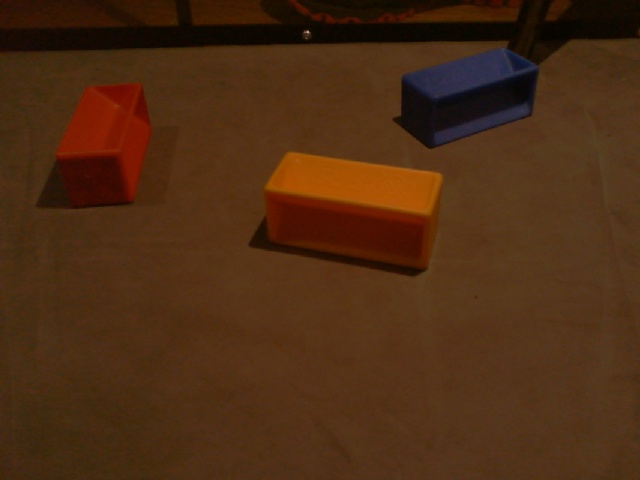BlueSample: (398, 47, 541, 150)
RedSample: (52, 79, 155, 208)
YellowSample: (260, 150, 448, 275)
